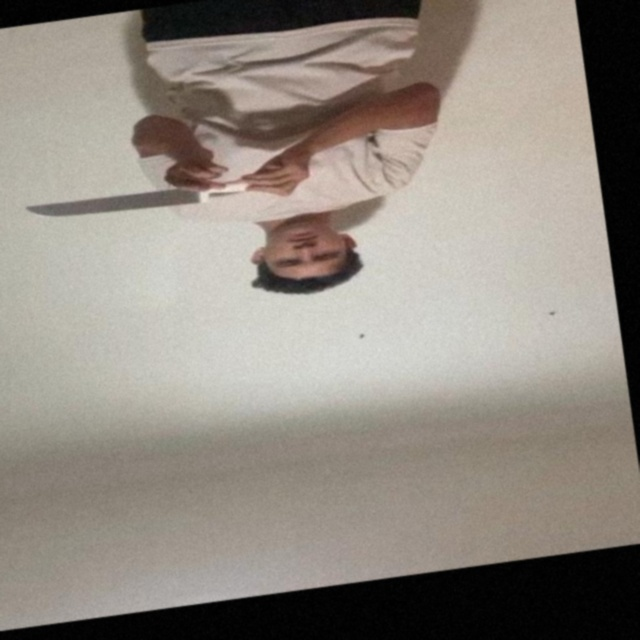Sharp-Object: (20, 184, 202, 230)
